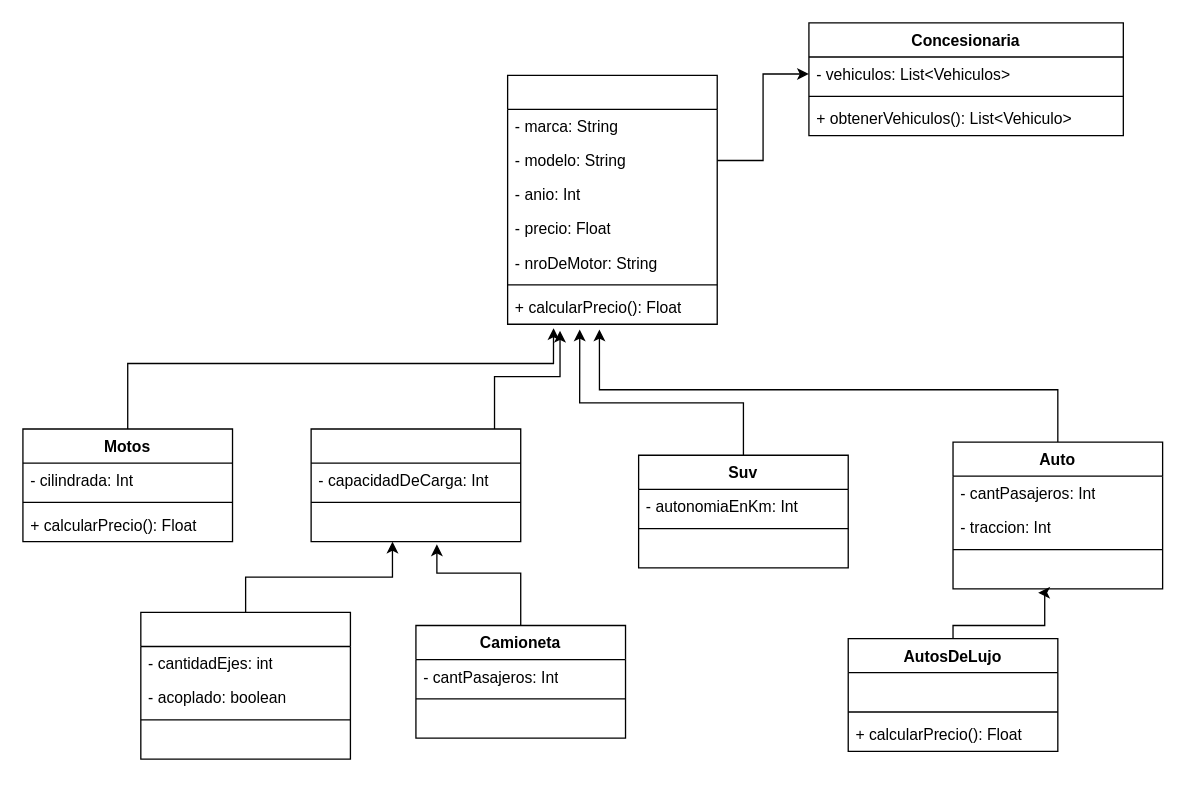
Some shapes in this 1186 by 786 pixel diagram are drawn without their labels. The box of each missing label's shape, as (x1, y1, x2, y2) in pixels:
Camion: (140, 611, 350, 759)
Vehiculo: (506, 74, 717, 324)
VehiculoDeCarga: (310, 428, 521, 542)
